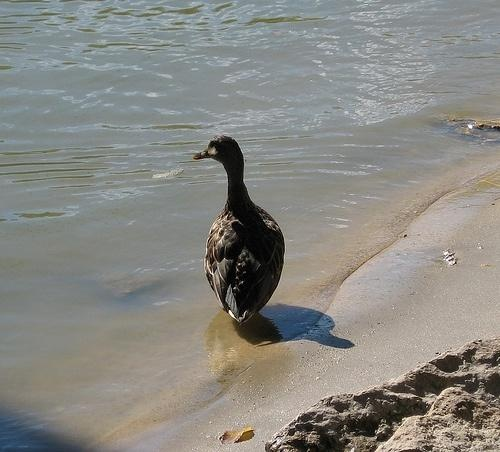bird: (192, 133, 287, 324)
